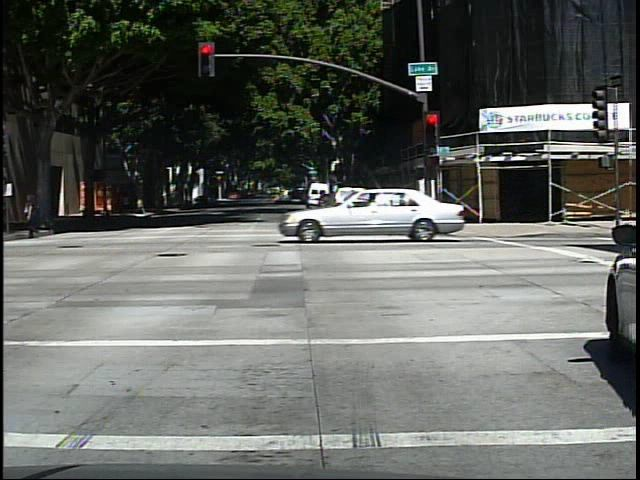person: (20, 189, 50, 242)
